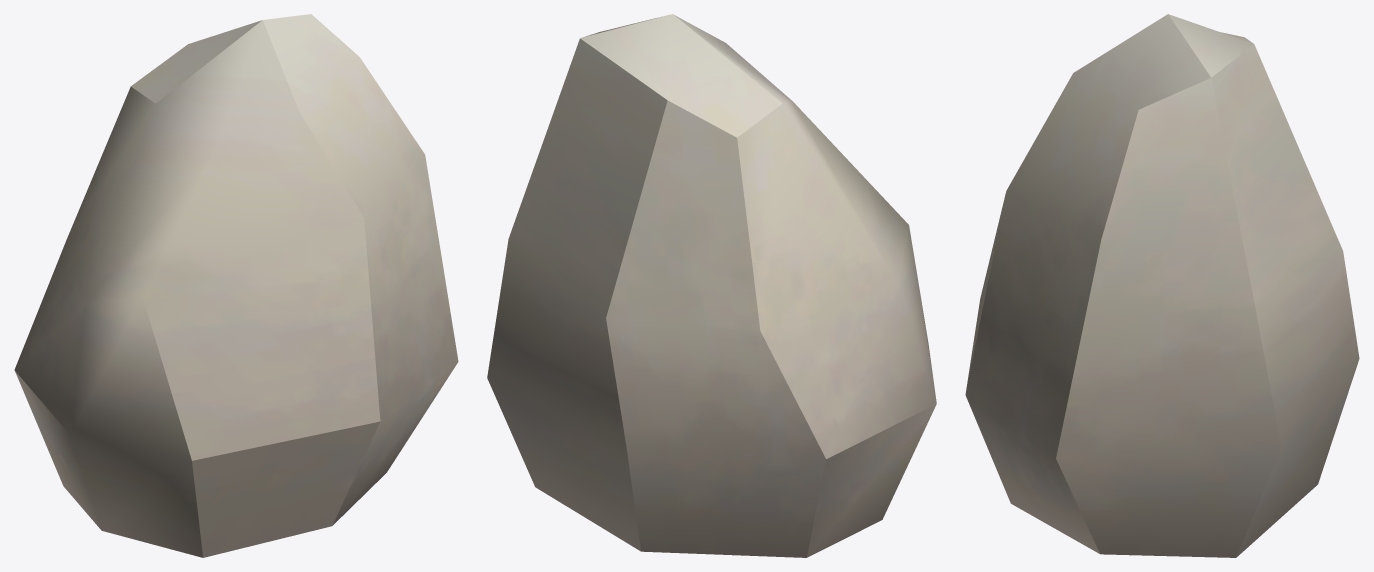
File: Misc_TallRock.fbx
The picture shows the model from 3 angles, left to right: view 1: azimuth 30°, elevation 25°; view 2: azimuth 150°, elevation 25°; view 3: azimuth 270°, elevation 25°; orthographic projection. The views are drawn at different scales.
Parts seen in each view (by area): view 1: tallrock; view 2: tallrock; view 3: tallrock.
Boxes of the visible parts, box(x1,y1,x2,y2) form: tallrock: box(14, 14, 458, 557); tallrock: box(487, 14, 936, 557); tallrock: box(965, 14, 1359, 557).
Size of the model in its own units: 1.53 by 1.81 by 1.32.
